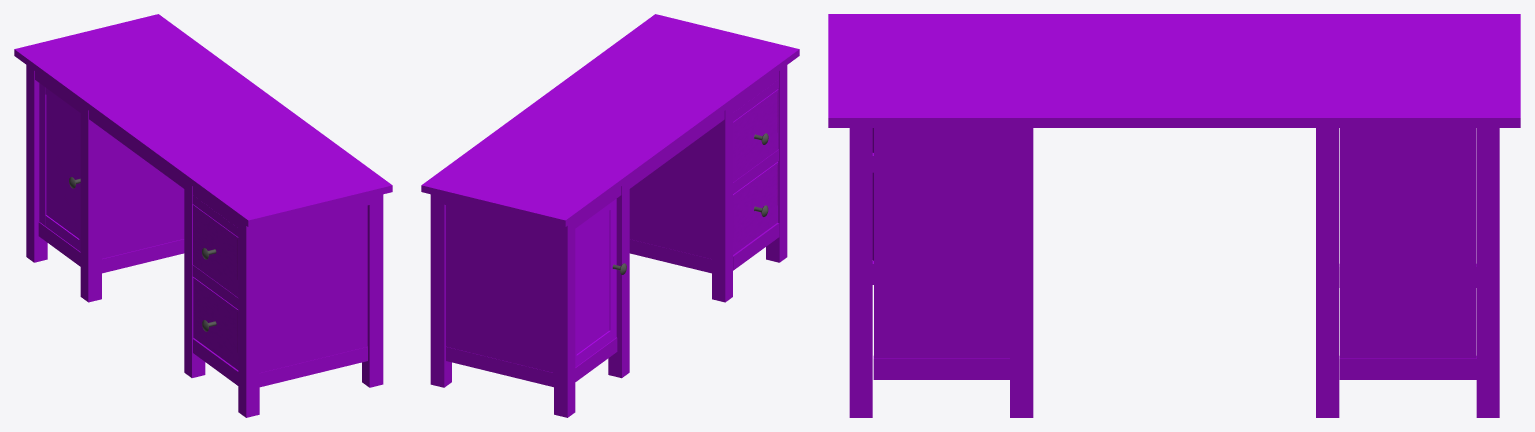
3 views of the same model, side by side, from view 1: azimuth 30°, elevation 25°; view 2: azimuth 150°, elevation 25°; view 3: azimuth 270°, elevation 25° (orthographic). The views are drawn at different scales.
Visible parts, largest first — view 1: Table _Table Morilka_0, Table Left Door, Table Left Door.002, Table Left Door.003; view 2: Table _Table Morilka_0, Table Left Door, Table Left Door.002, Table Left Door.003; view 3: Table _Table Morilka_0.
Part boxes in pixels (bbox=[...]): Table _Table Morilka_0: bbox=[14, 14, 392, 417]; Table Left Door: bbox=[39, 83, 80, 251]; Table Left Door.002: bbox=[193, 277, 238, 369]; Table Left Door.003: bbox=[193, 204, 238, 297]; Table _Table Morilka_0: bbox=[421, 14, 799, 417]; Table Left Door: bbox=[575, 199, 616, 367]; Table Left Door.002: bbox=[733, 162, 778, 254]; Table Left Door.003: bbox=[733, 89, 778, 182]; Table _Table Morilka_0: bbox=[828, 14, 1520, 417].
Size of the model in its own units: 57.76 by 74.5 by 155.
Materials: 4 (3 with a texture image).
